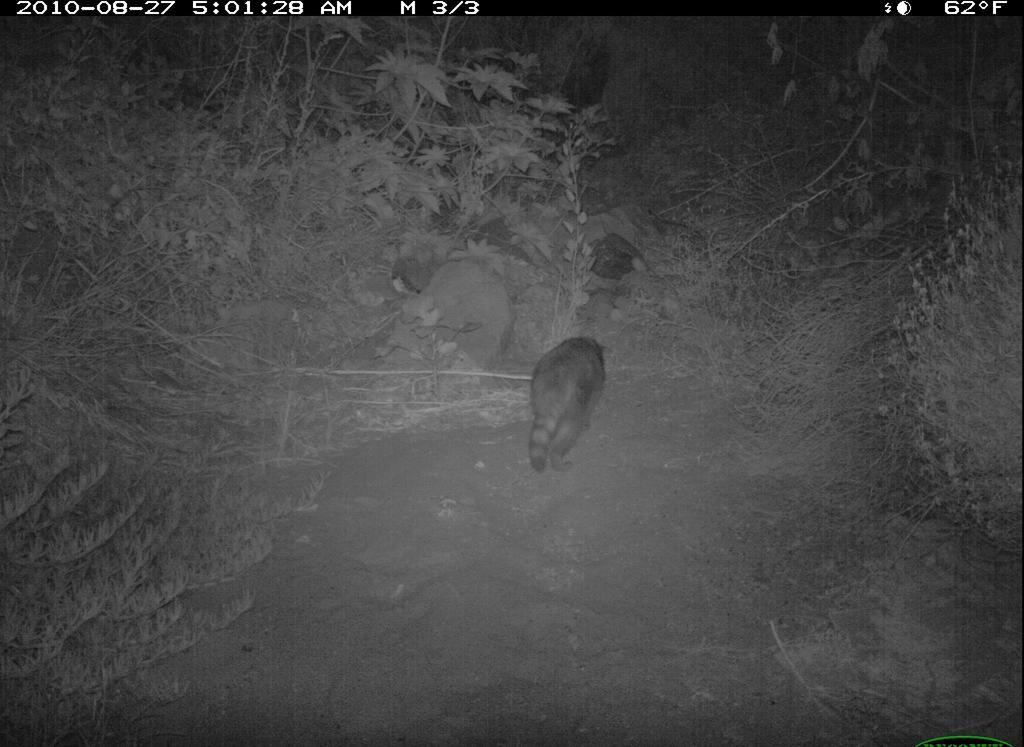raccoon: (512, 329, 621, 482)
